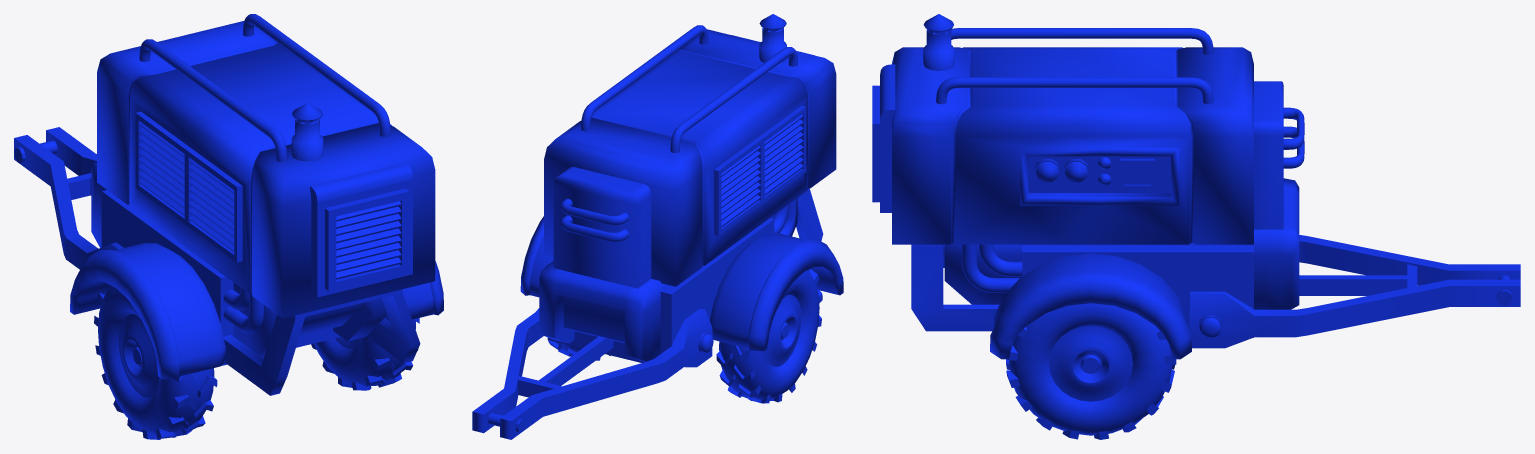
The model's file is Generator.fbx.
3 renders of one model, left to right at view 1: azimuth 30°, elevation 25°; view 2: azimuth 150°, elevation 25°; view 3: azimuth 270°, elevation 25°, orthographic. The views are drawn at different scales.
Visible parts, largest first — view 1: Generator; view 2: Generator; view 3: Generator.
Boxes of the visible parts, x1=… form: Generator: x1=14, y1=14, x2=443, y2=439; Generator: x1=472, y1=14, x2=843, y2=439; Generator: x1=872, y1=14, x2=1520, y2=439.
Bounding box in the file's own units: 2.79 × 3.47 × 5.7.
